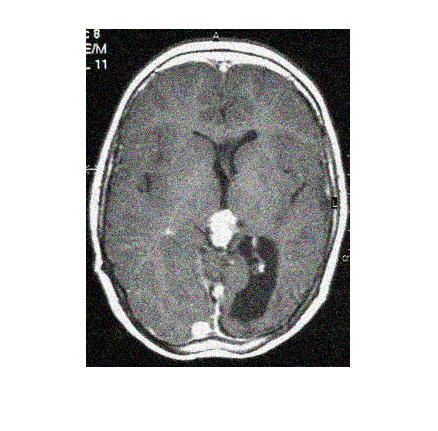Brain_Cancer: (199, 201, 243, 253)
